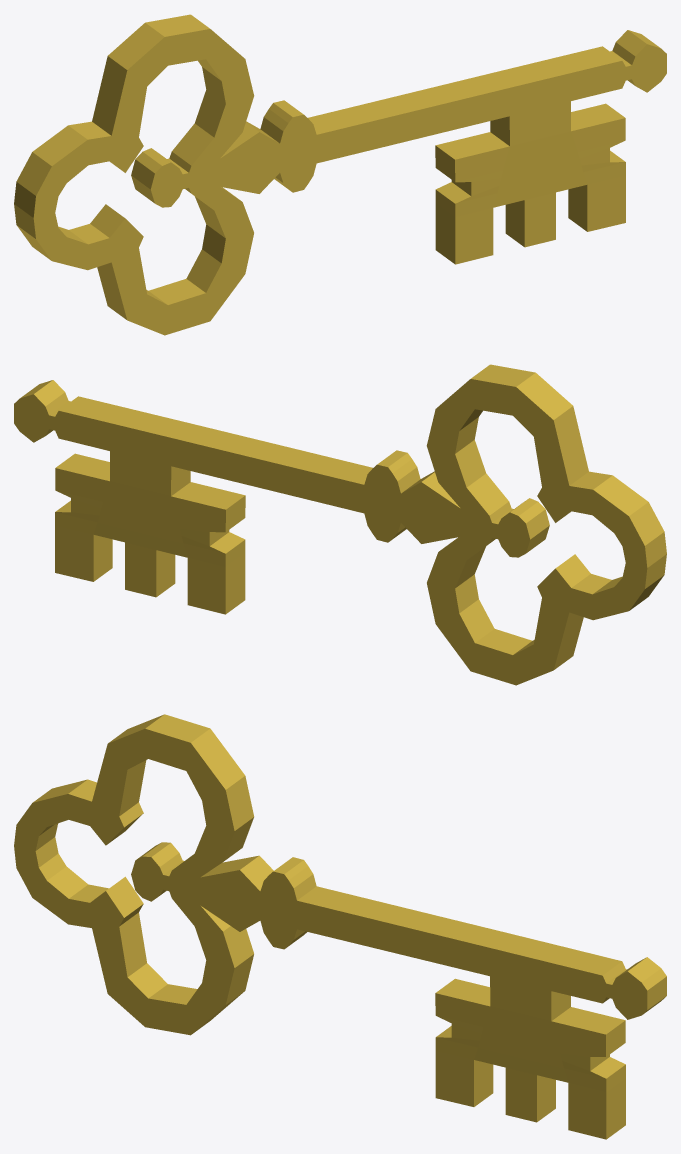
Rendered from Key.glb.
The picture shows the model from 3 angles, top to bottom: view 1: azimuth 30°, elevation 25°; view 2: azimuth 150°, elevation 25°; view 3: azimuth 330°, elevation 25°; orthographic projection.
Visible parts, largest first — view 1: Key; view 2: Key; view 3: Key.
Boxes of the visible parts, <box> form: Key: <box>14,14,666,335</box>; Key: <box>14,364,666,685</box>; Key: <box>14,714,666,1139</box>.
Size of the model in its own units: 1.02 by 0.4608 by 0.055.
